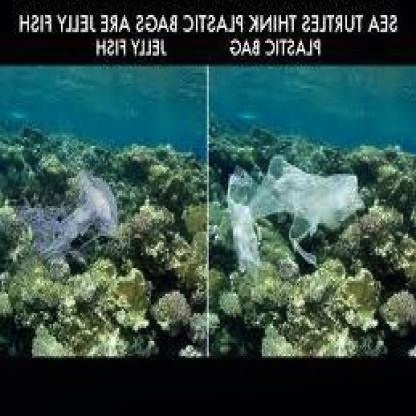pbag: (226, 154, 362, 279)
